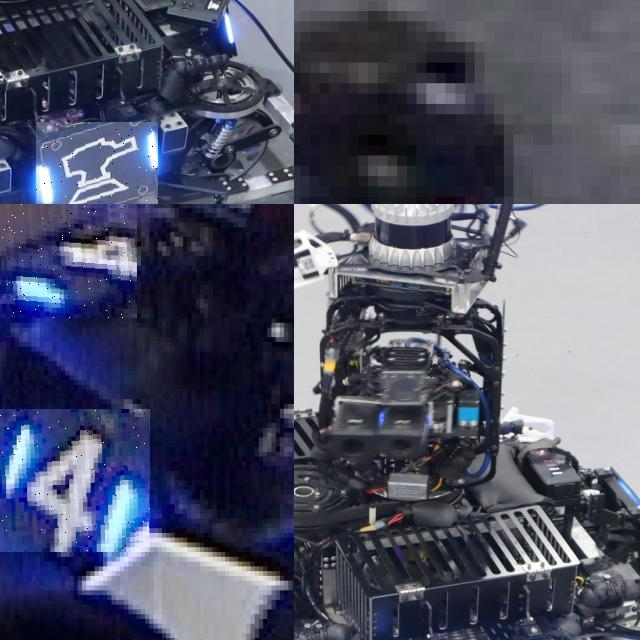B4: (0, 408, 151, 552), (0, 204, 137, 317)
Bs: (36, 121, 158, 204)
